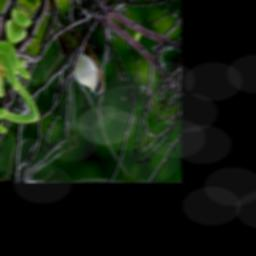Cuckoo: (23, 0, 125, 103)
